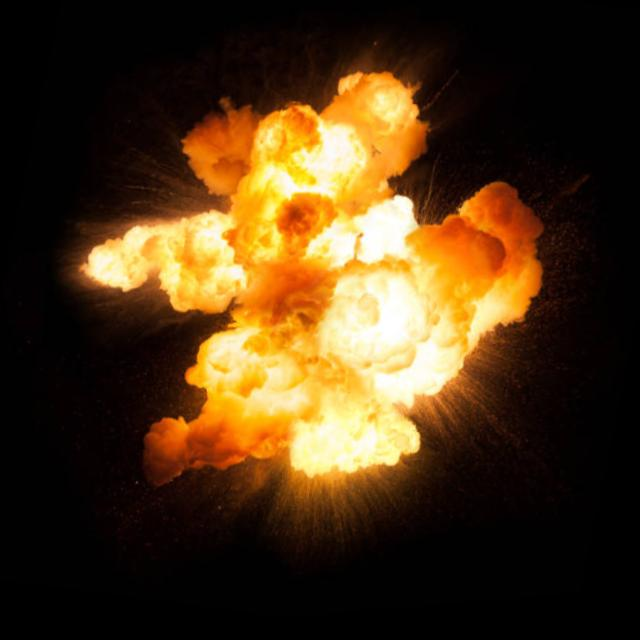Fire: (56, 5, 595, 563)
